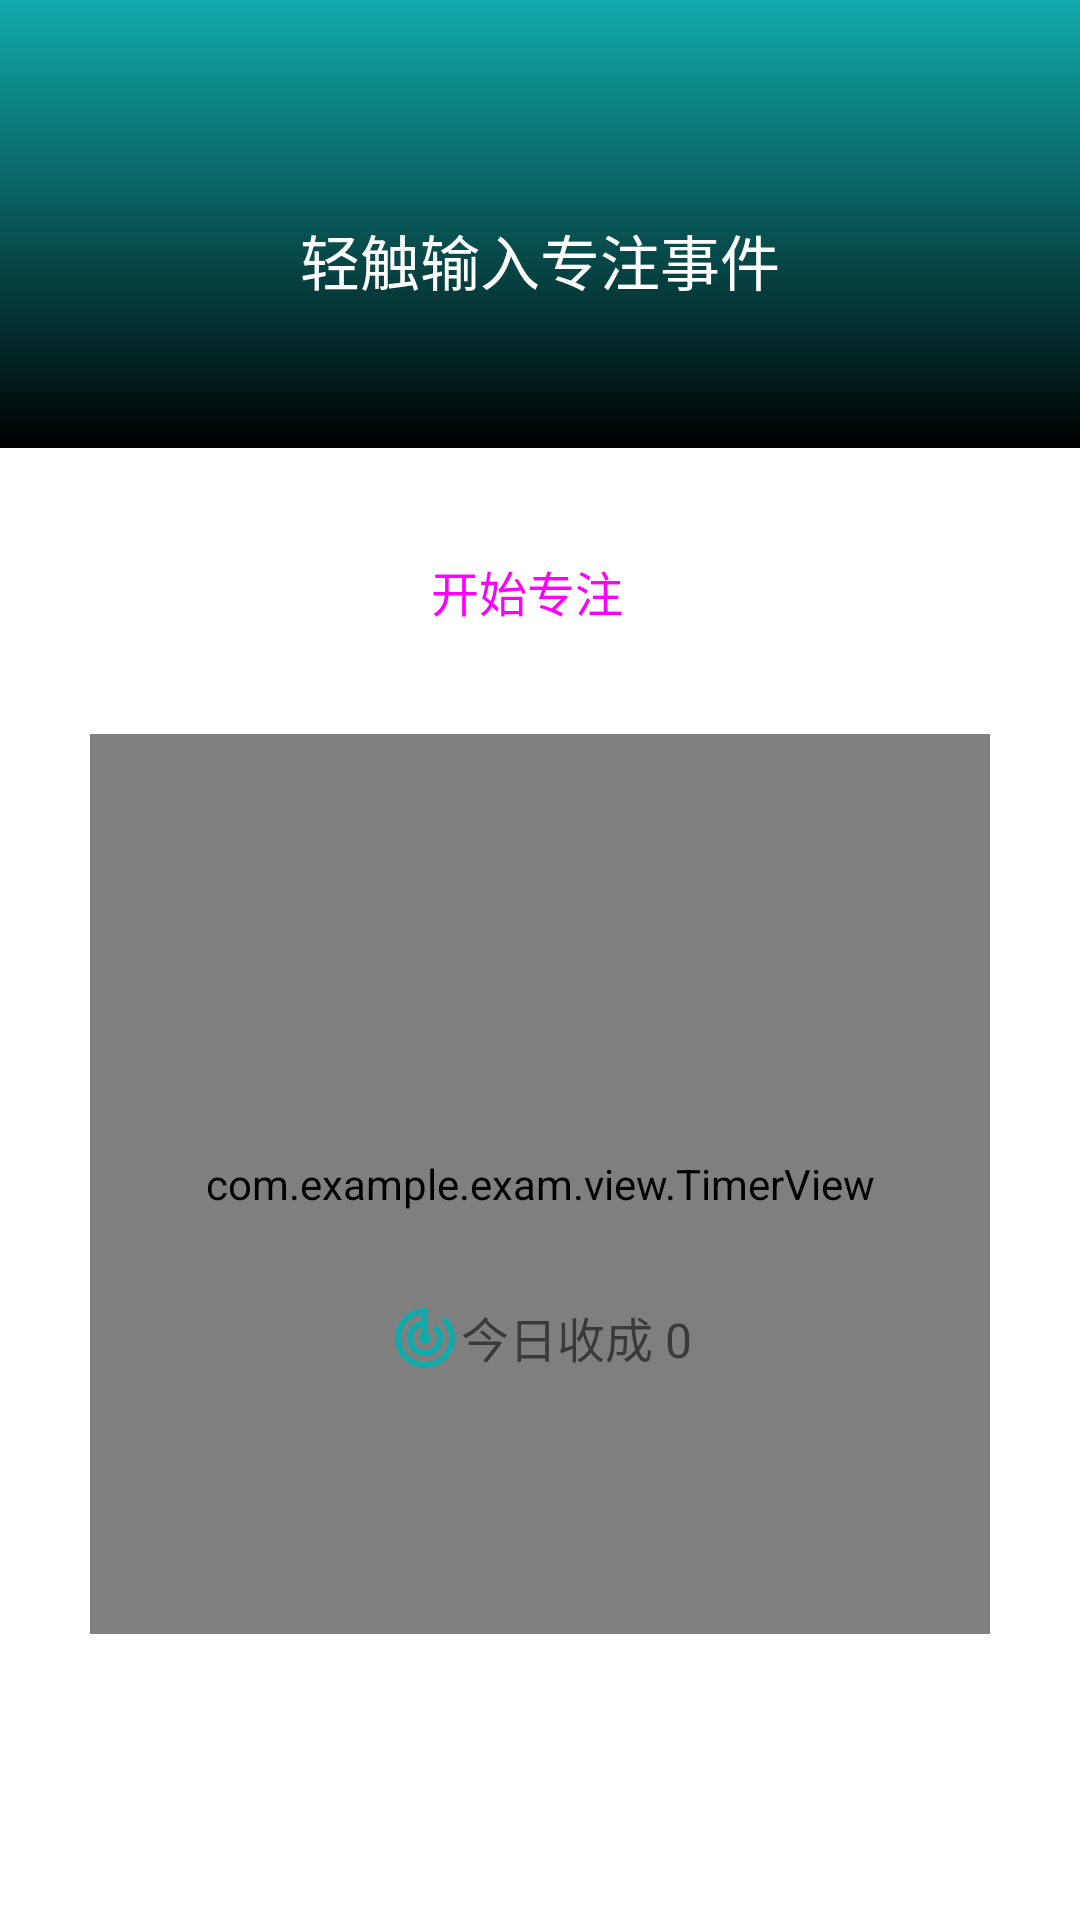

Named icons in this screenshot (1080x1920) and their bounding boxes, (x1, y1, x2, y2):
track change: (395, 1308, 455, 1368)
